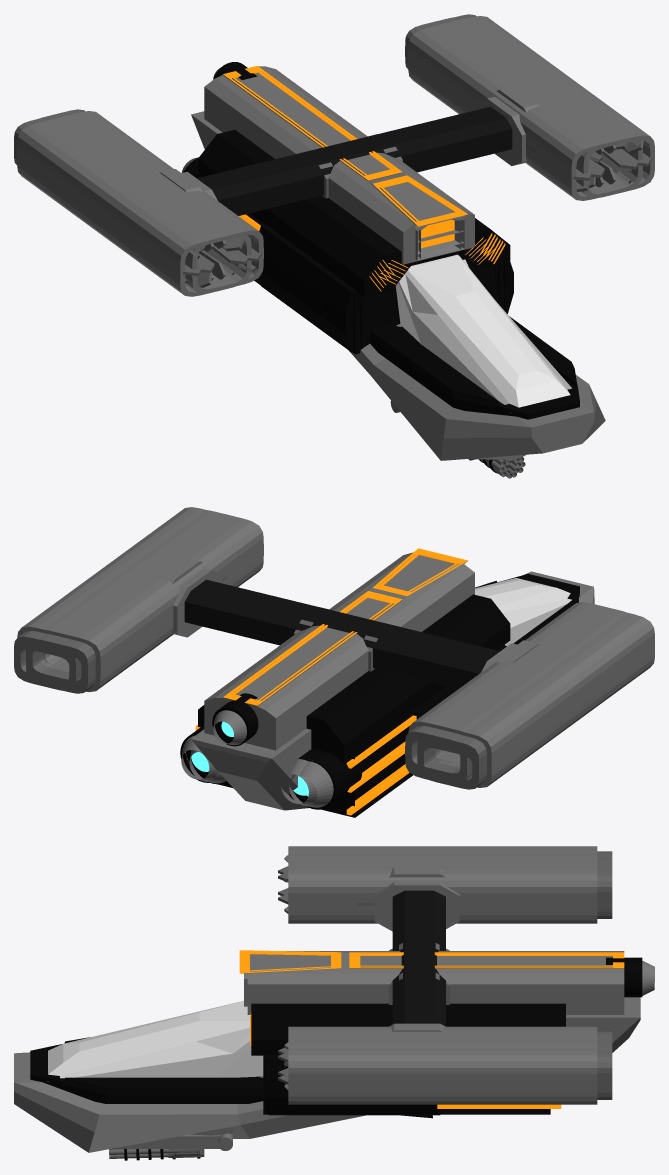
Rendered from looni_gunship.fbx.
3 views of the same model, one above another, from view 1: azimuth 30°, elevation 25°; view 2: azimuth 150°, elevation 25°; view 3: azimuth 270°, elevation 25° (orthographic). The views are drawn at different scales.
Visible parts, largest first — view 1: Cube.138; view 2: Cube.138; view 3: Cube.138.
Boxes of the visible parts, x1,y1,x2,y2 form: Cube.138: [14, 14, 654, 478]; Cube.138: [14, 507, 654, 817]; Cube.138: [14, 846, 654, 1160].
Bounding box in the file's own units: 1647 × 735 × 2037.
